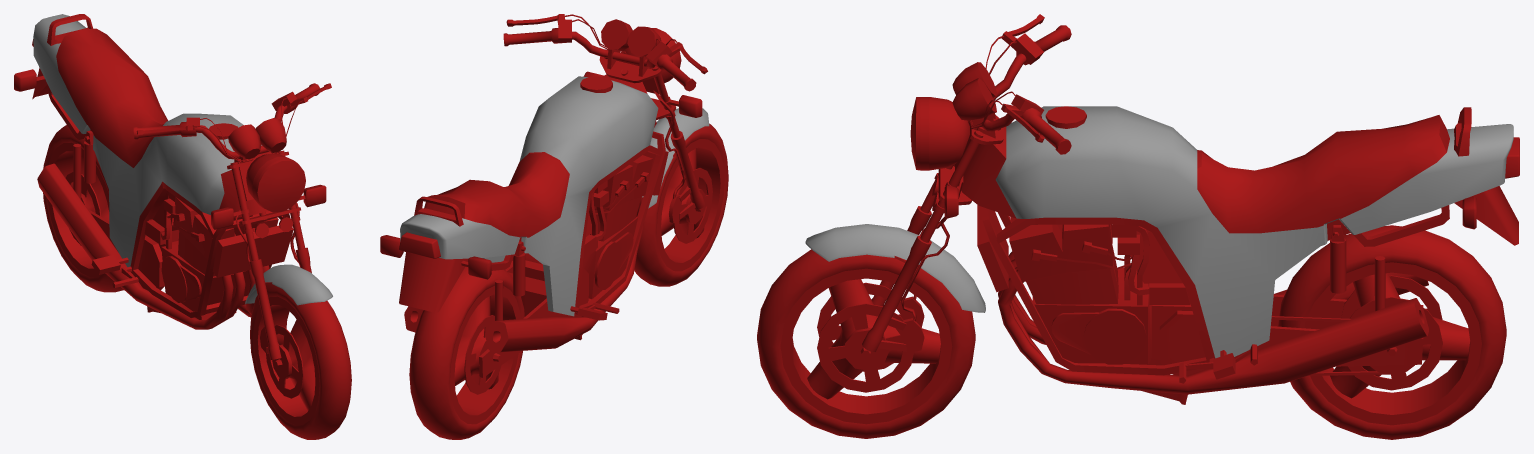
Rendered from F_Motorbike.FBX.
3 renders of one model, left to right at view 1: azimuth 30°, elevation 25°; view 2: azimuth 150°, elevation 25°; view 3: azimuth 270°, elevation 25°, orthographic. The views are drawn at different scales.
Visible parts, largest first — view 1: Motorbike_Body, Motorbike_Wheel_Front, Motorbike_Handlebar, Motorbike_Wheel_Rear, Motorbike_FrontFork, Motorbike_Handlebar_MainLight, Motorbike_ForkRear, Motorbike_ShockAbsorber_Rear_Up_Right, Motorbike_ShockAbsorber_Rear_Down_Right, Motorbike_Handlebar_Light_Turn_Front_Right, Motorbike_Handlebar_Light_Turn_Front_Left; view 2: Motorbike_Body, Motorbike_Wheel_Rear, Motorbike_Wheel_Front, Motorbike_Handlebar, Motorbike_FrontFork, Motorbike_ForkRear, Motorbike_Body_Light_Stop, Motorbike_ShockAbsorber_Rear_Up_Right, Motorbike_Body_Light_Turn_Rear_Right, Motorbike_Body_Light_Turn_Rear_Left; view 3: Motorbike_Body, Motorbike_Wheel_Rear, Motorbike_Wheel_Front, Motorbike_Handlebar, Motorbike_FrontFork, Motorbike_ForkRear, Motorbike_ShockAbsorber_Rear_Up_Left.
Part boxes in pixels (x1=…): Motorbike_Body: x1=14, y1=14, x2=293, y2=329; Motorbike_Wheel_Front: x1=250, y1=284, x2=351, y2=439; Motorbike_Handlebar: x1=133, y1=83, x2=331, y2=267; Motorbike_Wheel_Rear: x1=43, y1=125, x2=152, y2=292; Motorbike_FrontFork: x1=245, y1=247, x2=332, y2=379; Motorbike_Handlebar_MainLight: x1=255, y1=159, x2=305, y2=212; Motorbike_ForkRear: x1=88, y1=209, x2=164, y2=290; Motorbike_ShockAbsorber_Rear_Up_Right: x1=84, y1=130, x2=95, y2=183; Motorbike_ShockAbsorber_Rear_Down_Right: x1=73, y1=143, x2=81, y2=199; Motorbike_Handlebar_Light_Turn_Front_Right: x1=213, y1=208, x2=233, y2=229; Motorbike_Handlebar_Light_Turn_Front_Left: x1=306, y1=186, x2=326, y2=207; Motorbike_Body: x1=382, y1=74, x2=668, y2=352; Motorbike_Wheel_Rear: x1=409, y1=266, x2=524, y2=439; Motorbike_Wheel_Front: x1=634, y1=123, x2=728, y2=286; Motorbike_Handlebar: x1=503, y1=14, x2=707, y2=171; Motorbike_FrontFork: x1=642, y1=108, x2=709, y2=224; Motorbike_ForkRear: x1=479, y1=260, x2=588, y2=377; Motorbike_Body_Light_Stop: x1=399, y1=232, x2=440, y2=258; Motorbike_ShockAbsorber_Rear_Up_Right: x1=513, y1=241, x2=525, y2=296; Motorbike_Body_Light_Turn_Rear_Right: x1=468, y1=257, x2=489, y2=279; Motorbike_Body_Light_Turn_Rear_Left: x1=380, y1=236, x2=401, y2=257; Motorbike_Body: x1=958, y1=106, x2=1518, y2=404; Motorbike_Wheel_Rear: x1=1278, y1=225, x2=1506, y2=439; Motorbike_Wheel_Front: x1=757, y1=249, x2=975, y2=438; Motorbike_Handlebar: x1=917, y1=14, x2=1071, y2=270; Motorbike_FrontFork: x1=805, y1=206, x2=985, y2=370; Motorbike_ForkRear: x1=1159, y1=294, x2=1423, y2=375; Motorbike_ShockAbsorber_Rear_Up_Left: x1=1330, y1=225, x2=1346, y2=293.
Size of what is drawn, in the model's own units: 793 by 1110 by 2076.
